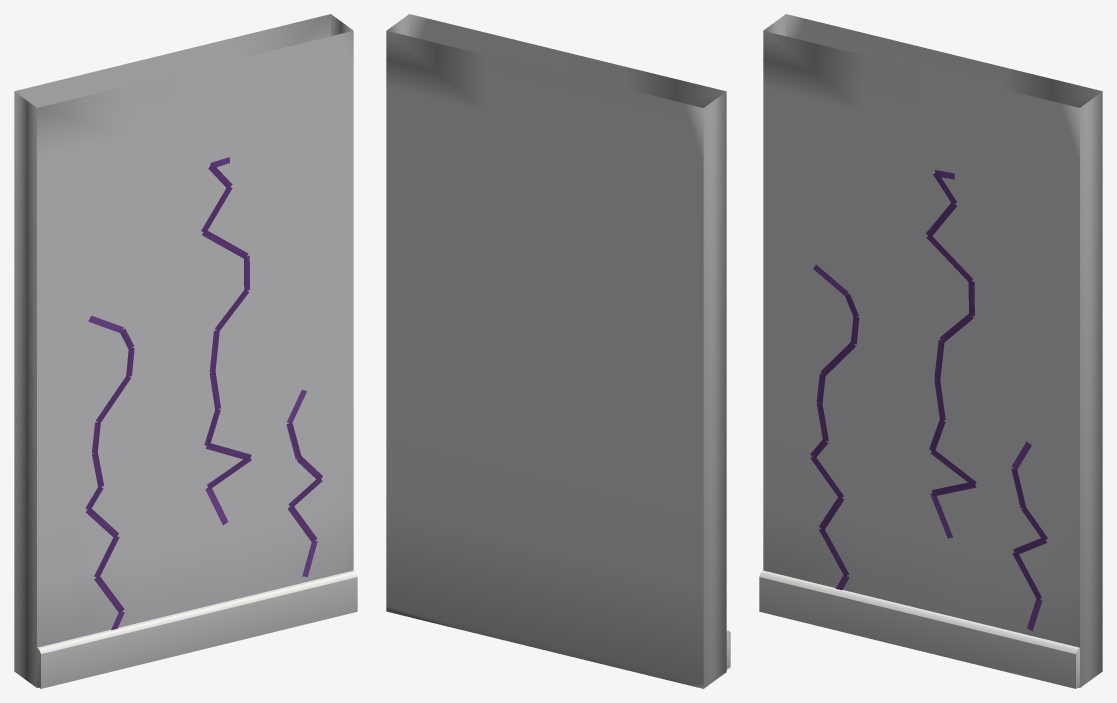
File: grav_vegg_som.glb
3 renders of one model, left to right at view 1: azimuth 30°, elevation 25°; view 2: azimuth 150°, elevation 25°; view 3: azimuth 330°, elevation 25°, orthographic.
Parts seen in each view (by area): view 1: far, grav_vegg_som; view 2: far; view 3: far, grav_vegg_som.
Boxes of the visible parts, <box> form: far: <box>14,14,353,687</box>; grav_vegg_som: <box>37,570,357,688</box>; far: <box>386,14,726,688</box>; far: <box>763,14,1102,687</box>; grav_vegg_som: <box>759,570,1079,688</box>.
Size of the model in its own units: 3.2 by 5.6 by 0.47.
